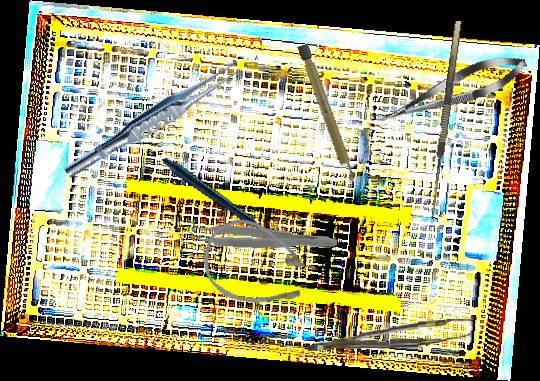Cannula: (192, 209, 326, 324)
Handpiece: (161, 134, 277, 271)
Hook Surgical: (427, 20, 473, 221)
Micro Scissor: (369, 46, 532, 136)
Scalpel Handle: (296, 43, 358, 185)
Tissue Forceps: (60, 55, 243, 187), (307, 318, 472, 352), (186, 219, 338, 253)
